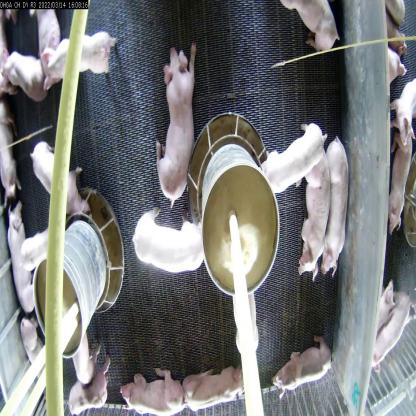Pig: (152, 44, 202, 208), (131, 192, 212, 282), (318, 134, 358, 288), (252, 117, 326, 196), (30, 134, 94, 220), (1, 190, 42, 315), (42, 36, 124, 95), (302, 131, 334, 279), (368, 290, 416, 378), (382, 127, 415, 245), (280, 0, 338, 63), (177, 365, 246, 415), (271, 336, 333, 391), (117, 366, 183, 416), (0, 48, 54, 108), (16, 315, 52, 398), (61, 370, 117, 415), (0, 102, 20, 201), (392, 80, 416, 149)
